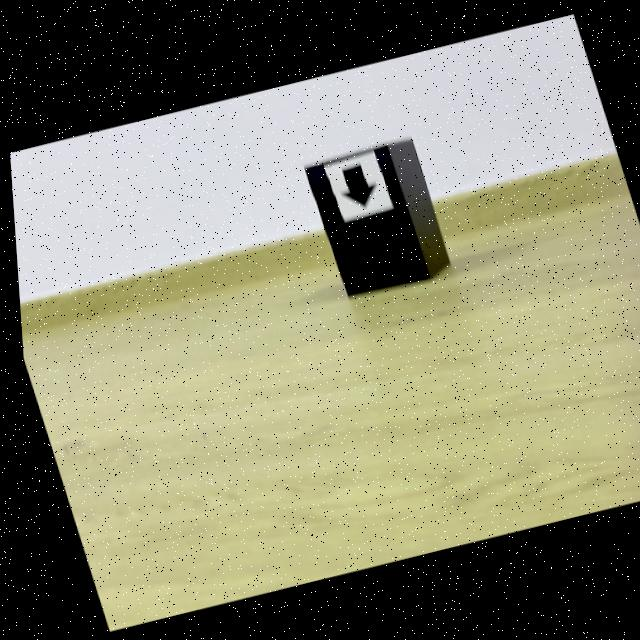DOWN: (339, 163, 373, 206)
